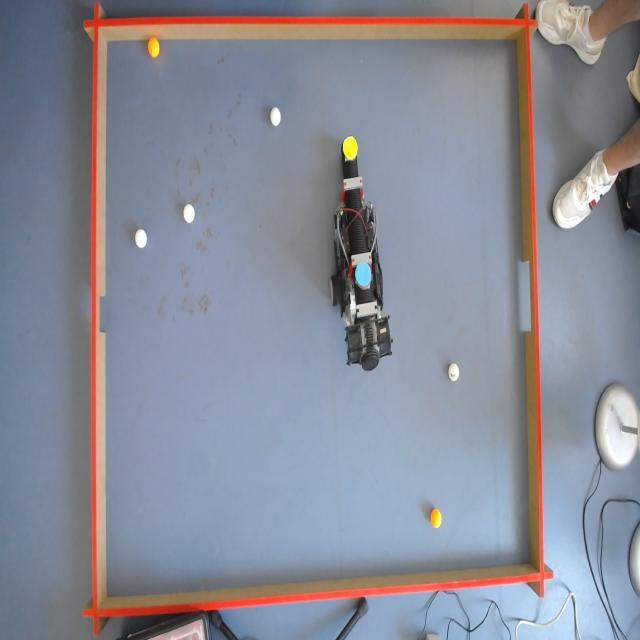orange: (148, 38, 162, 61), (431, 508, 443, 530)
robot: (337, 161, 387, 363)
robot-front: (343, 137, 357, 160)
robot-rear: (355, 262, 372, 286)
white: (135, 228, 147, 250), (184, 203, 196, 223), (448, 362, 460, 382), (270, 109, 281, 128)
